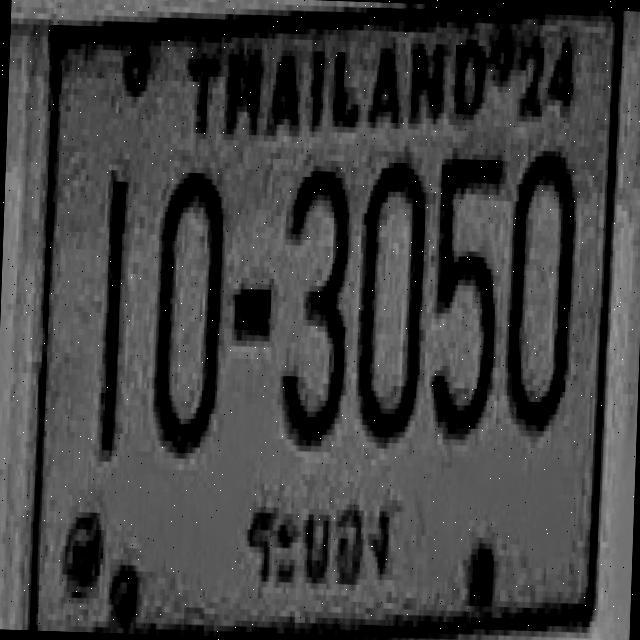0: (355, 156, 428, 444), (504, 144, 577, 432), (152, 166, 224, 454)
1: (97, 172, 127, 453)
3: (278, 165, 350, 446)
5: (430, 150, 504, 438)
Rayong: (238, 470, 401, 616)
